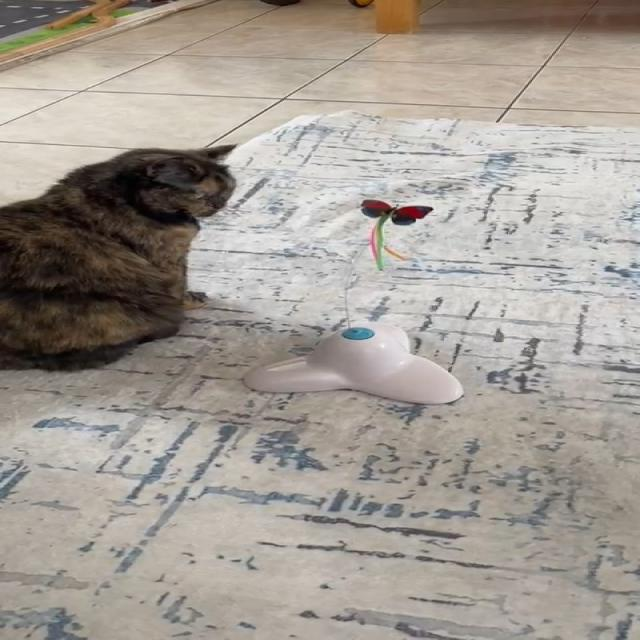authorized: (0, 143, 239, 372)
